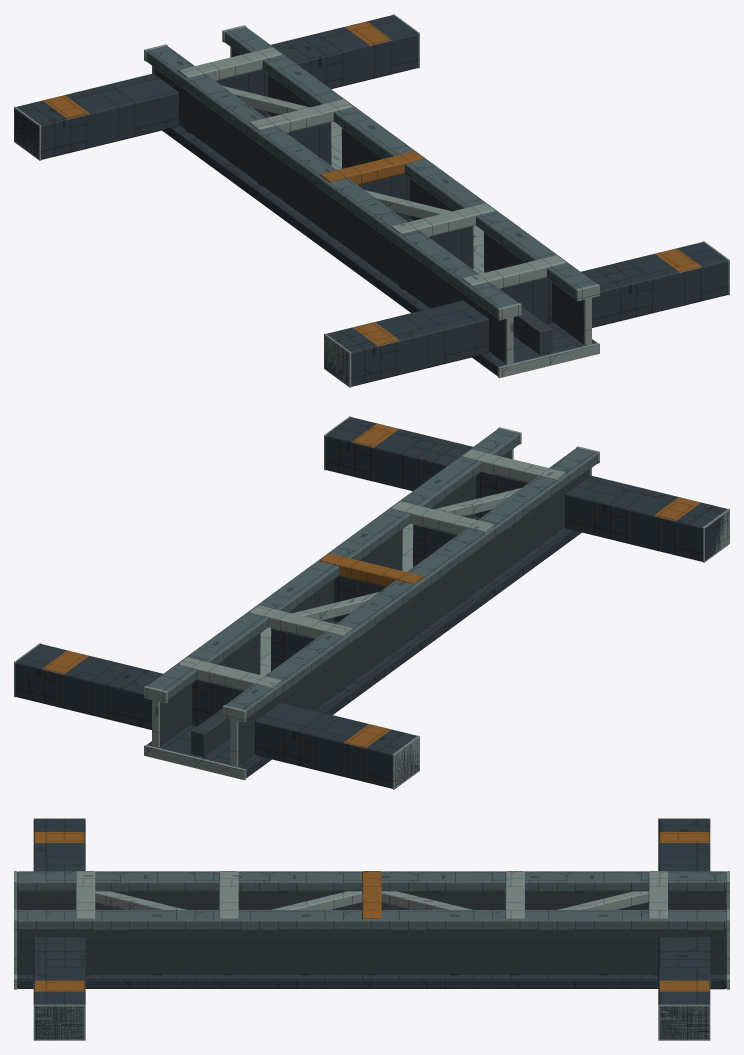
File: place_ceres_second_measure_crossbeam.glb
3 views of the same model, one above another, from view 1: azimuth 30°, elevation 25°; view 2: azimuth 150°, elevation 25°; view 3: azimuth 270°, elevation 25° (orthographic).
Parts seen in each view (by area): view 1: LOD0_Armor, LOD0_Hull, LOD0_Mechanical, LOD1_Hull, LOD0_BrushedMetal, LOD1_Armor, LOD0_Livery, LOD1_BrushedMetal; view 2: LOD0_Armor, LOD0_Hull, LOD0_Mechanical, LOD0_BrushedMetal, LOD1_Hull, LOD1_Armor, LOD0_Livery, LOD1_BrushedMetal; view 3: LOD0_Mechanical, LOD0_Hull, LOD0_Armor, LOD1_Hull, LOD0_BrushedMetal, LOD0_Livery, LOD1_Armor, LOD2_Armor, LOD1_BrushedMetal.
Boxes of the visible parts, bbox=[...] form: LOD0_Armor: bbox=[14, 15, 728, 386]; LOD0_Hull: bbox=[146, 27, 596, 317]; LOD0_Mechanical: bbox=[153, 48, 583, 363]; LOD1_Hull: bbox=[146, 27, 596, 317]; LOD0_BrushedMetal: bbox=[14, 14, 729, 387]; LOD1_Armor: bbox=[14, 18, 728, 386]; LOD0_Livery: bbox=[43, 21, 701, 346]; LOD1_BrushedMetal: bbox=[178, 49, 599, 346]; LOD0_Armor: bbox=[15, 417, 729, 788]; LOD0_Hull: bbox=[147, 429, 597, 719]; LOD0_Mechanical: bbox=[160, 450, 590, 765]; LOD0_BrushedMetal: bbox=[14, 416, 729, 789]; LOD1_Hull: bbox=[148, 429, 597, 720]; LOD1_Armor: bbox=[16, 417, 722, 788]; LOD0_Livery: bbox=[42, 423, 700, 748]; LOD1_BrushedMetal: bbox=[181, 450, 565, 687]; LOD0_Mechanical: bbox=[17, 892, 726, 974]; LOD0_Hull: bbox=[17, 871, 726, 930]; LOD0_Armor: bbox=[17, 819, 726, 1039]; LOD1_Hull: bbox=[17, 871, 726, 930]; LOD0_BrushedMetal: bbox=[14, 818, 729, 1040]; LOD0_Livery: bbox=[33, 832, 710, 991]; LOD1_Armor: bbox=[18, 819, 725, 1038]; LOD2_Armor: bbox=[17, 819, 726, 1004]; LOD1_BrushedMetal: bbox=[17, 871, 726, 989].
Size of the model in its own units: 34 by 6 by 55.
Materials: 5 (5 with a texture image).
